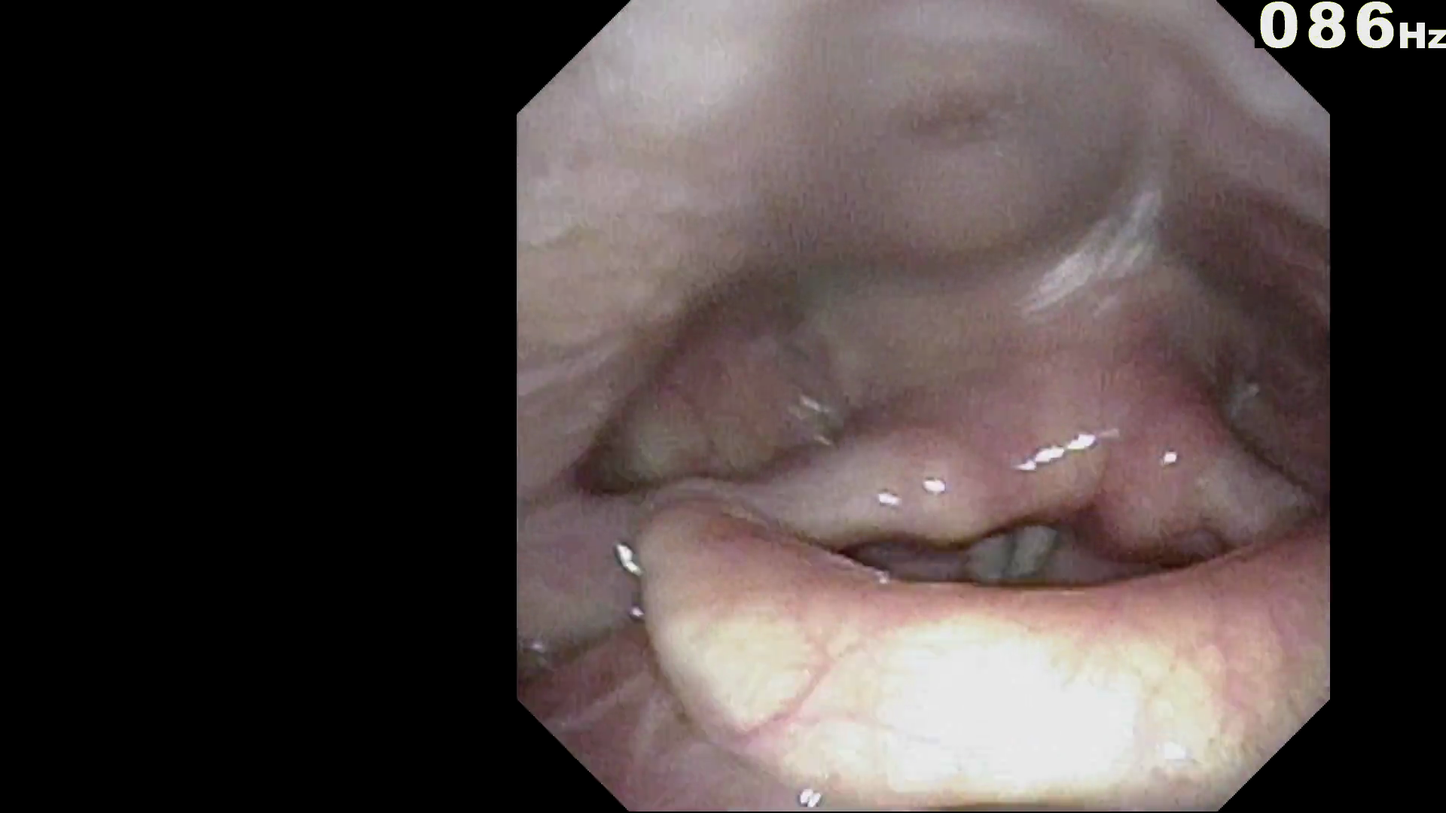epiglottis: (651, 537, 1266, 762)
trachea: (936, 494, 1082, 608)
